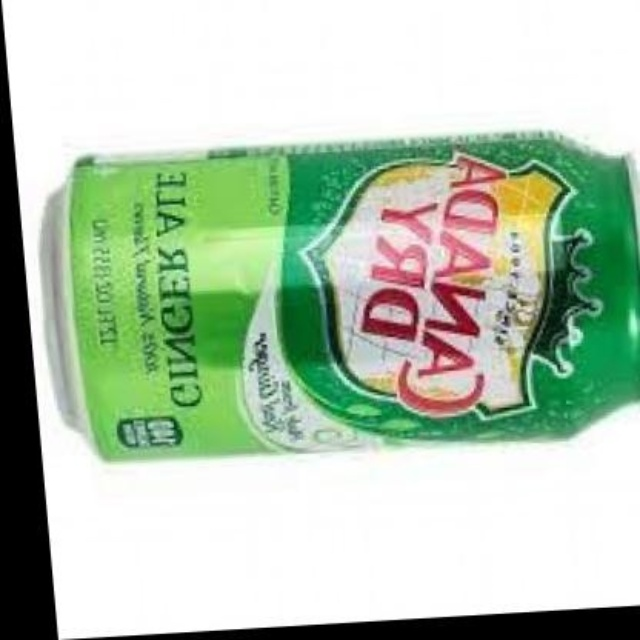trash: (69, 135, 638, 458)
